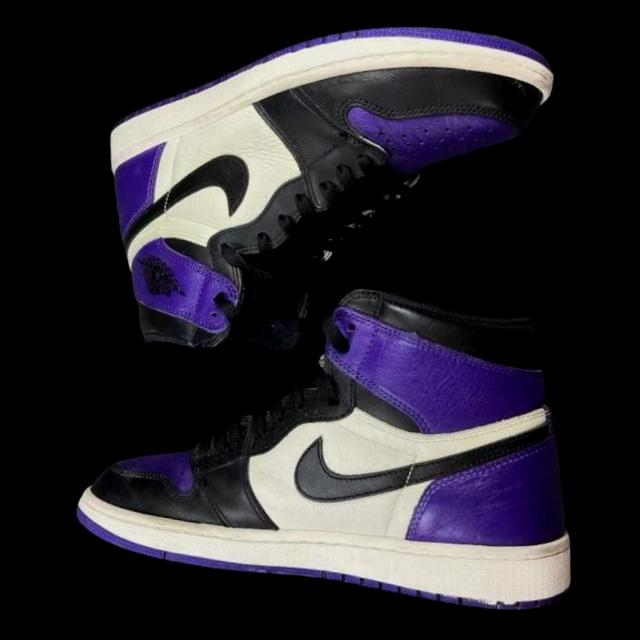nike_original_jordan: (72, 266, 594, 618), (94, 1, 560, 376)
